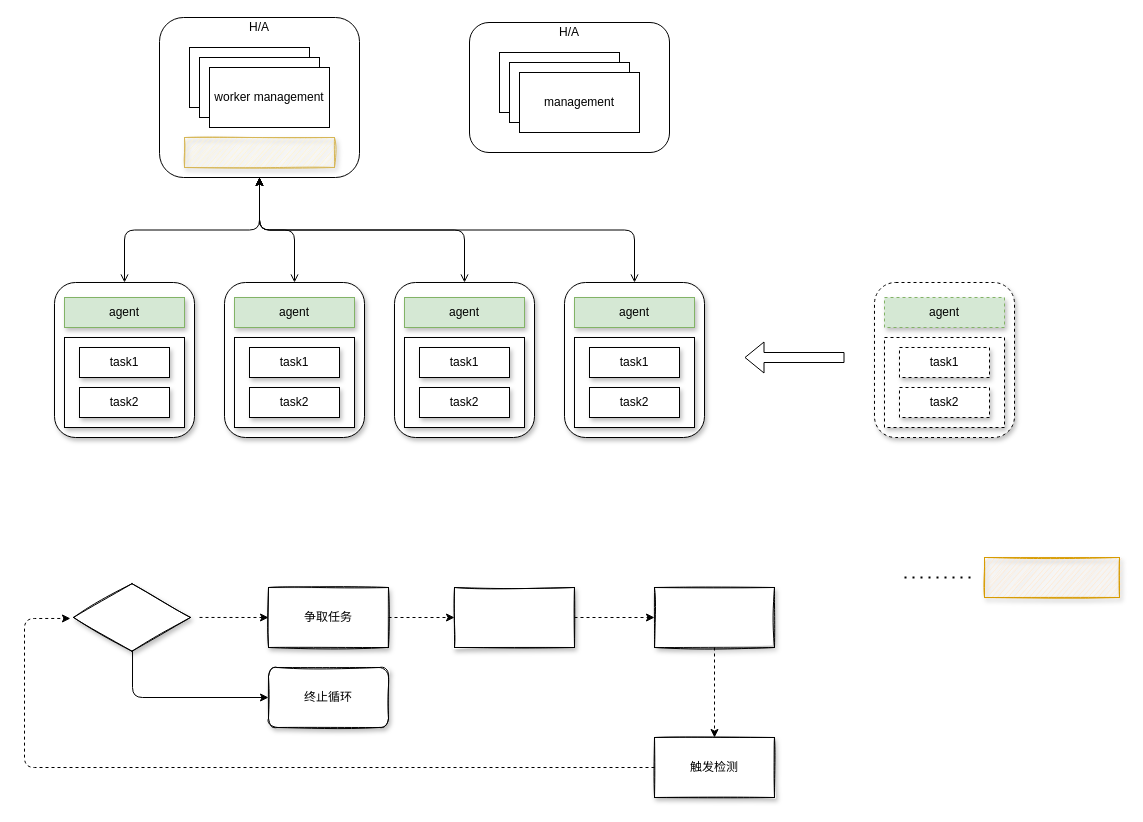
Image size: 1143x822. Some labels were removed from this diagram. The centre of each missing label's shape, as x and y in pixels:
CAS 方案: the point at 1053,578
CAS ？ 分配任务？: the point at 260,153
cpu/memory 还有剩余: the point at 133,618
执行任务: the point at 515,618
执行完成: the point at 715,618
